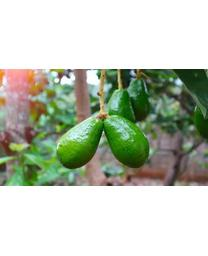avocado: (103, 114, 151, 169), (55, 114, 102, 170)
